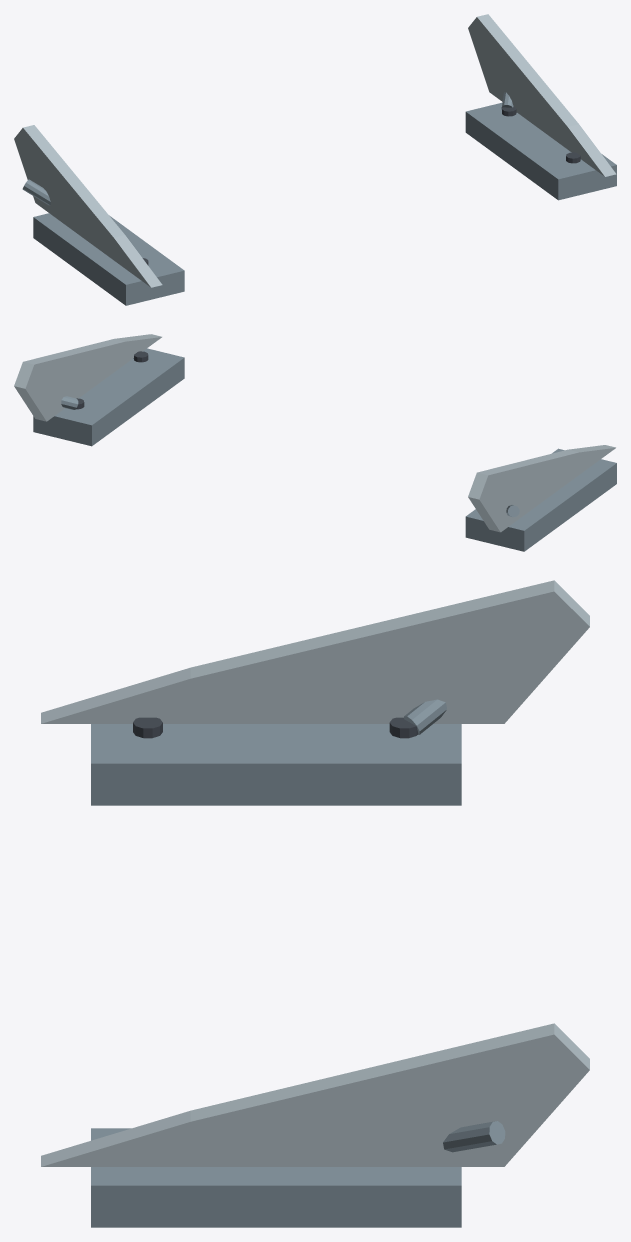
The model's file is fins_0_v2.glb.
The picture shows the model from 3 angles, top to bottom: view 1: azimuth 30°, elevation 25°; view 2: azimuth 150°, elevation 25°; view 3: azimuth 270°, elevation 25°; orthographic projection. The views are drawn at different scales.
Parts seen in each view (by area): view 1: TAIL_STARBOARD_SWEPT_STABILIZER, TAIL_PORT_SWEPT_STABILIZER, TAIL_STARBOARD_BOLTED_PEDESTAL, TAIL_PORT_BOLTED_PEDESTAL; view 2: TAIL_STARBOARD_BOLTED_PEDESTAL, TAIL_PORT_SWEPT_STABILIZER, TAIL_STARBOARD_SWEPT_STABILIZER, TAIL_PORT_BOLTED_PEDESTAL; view 3: TAIL_PORT_SWEPT_STABILIZER, TAIL_STARBOARD_SWEPT_STABILIZER, TAIL_PORT_BOLTED_PEDESTAL, TAIL_STARBOARD_BOLTED_PEDESTAL, TAIL_STARBOARD_LOAD_BRACE, TAIL_PORT_LOAD_BRACE.
Part boxes in pixels (left/top/right/bottom): TAIL_STARBOARD_SWEPT_STABILIZER: left=468, top=14, right=616, bottom=176; TAIL_PORT_SWEPT_STABILIZER: left=14, top=125, right=162, bottom=287; TAIL_STARBOARD_BOLTED_PEDESTAL: left=465, top=102, right=616, bottom=200; TAIL_PORT_BOLTED_PEDESTAL: left=33, top=213, right=184, bottom=305; TAIL_STARBOARD_BOLTED_PEDESTAL: left=33, top=348, right=184, bottom=446; TAIL_PORT_SWEPT_STABILIZER: left=468, top=445, right=615, bottom=532; TAIL_STARBOARD_SWEPT_STABILIZER: left=14, top=334, right=161, bottom=421; TAIL_PORT_BOLTED_PEDESTAL: left=465, top=448, right=616, bottom=551; TAIL_PORT_SWEPT_STABILIZER: left=41, top=580, right=589, bottom=723; TAIL_STARBOARD_SWEPT_STABILIZER: left=41, top=1023, right=589, bottom=1166; TAIL_PORT_BOLTED_PEDESTAL: left=91, top=724, right=461, bottom=805; TAIL_STARBOARD_BOLTED_PEDESTAL: left=91, top=1128, right=461, bottom=1227; TAIL_STARBOARD_LOAD_BRACE: left=443, top=1121, right=505, bottom=1152; TAIL_PORT_LOAD_BRACE: left=404, top=699, right=446, bottom=734.
Bounding box in the file's own units: 1.61 × 0.2795 × 0.77.
